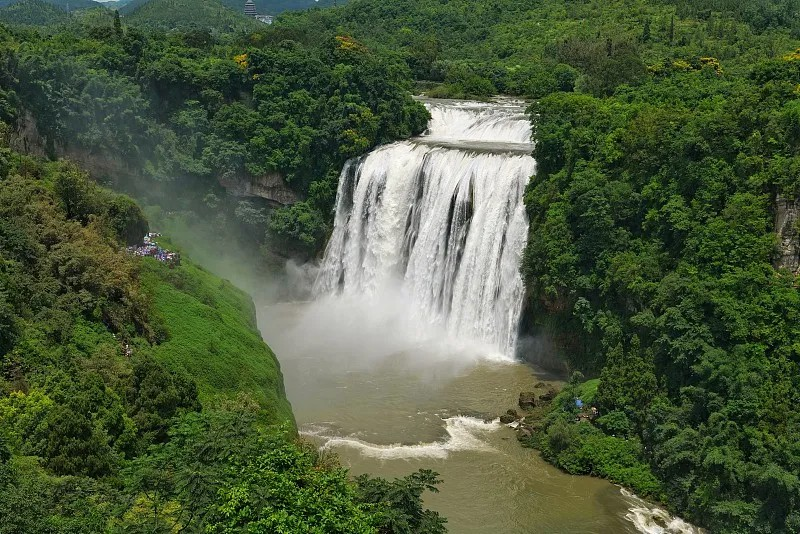Huangguoshu: (310, 95, 536, 358)
